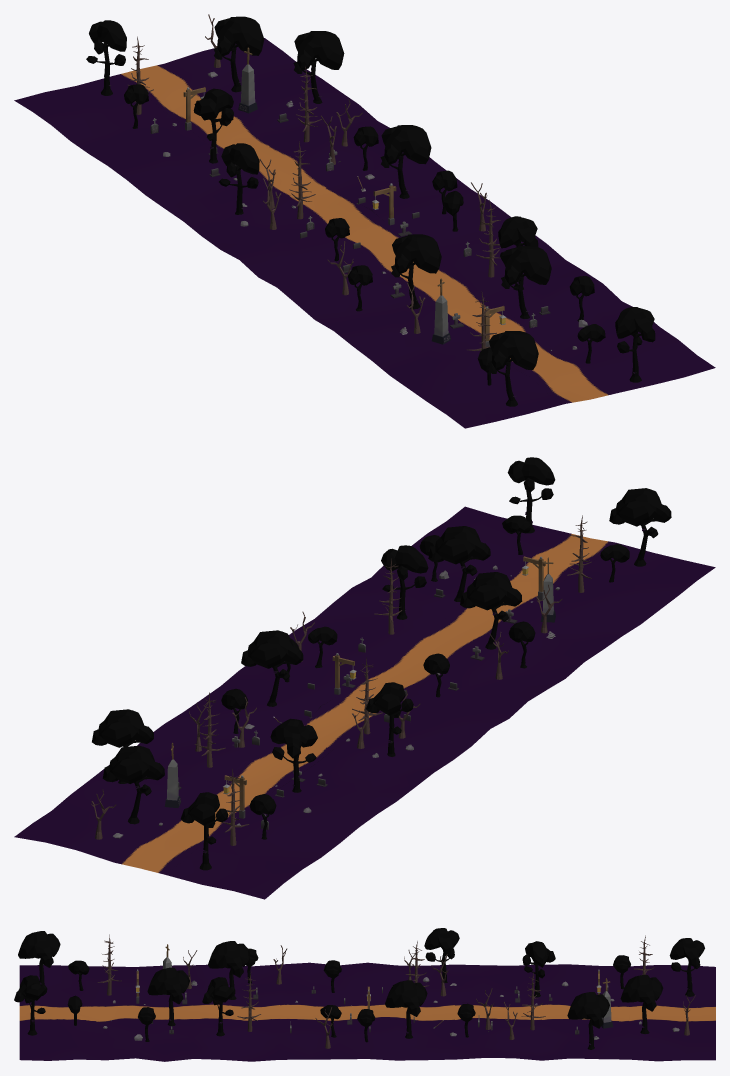
The model's file is cenario4.fbx.
The picture shows the model from 3 angles, top to bottom: view 1: azimuth 30°, elevation 25°; view 2: azimuth 150°, elevation 25°; view 3: azimuth 270°, elevation 25°; orthographic projection. The views are drawn at different scales.
Parts seen in each view (by area): view 1: Plane.001, Arvore.052, Arvore.057, Arvore.058, Arvore.063, Arvore.062, Arvore.048, Arvore.051, Arvore.047, Arvore.046, Arvore.056, Arvore.045 (+2 smaller); view 2: Plane.001, Arvore.052, Arvore.057, Arvore.062, Arvore.058, Arvore.063, Arvore.048, Arvore.056, Arvore.045, Arvore.051, Arvore.047, Arvore.046; view 3: Plane.001, Arvore.057, Arvore.058, Arvore.063, Arvore.048, Arvore.052, Arvore.062, Arvore.047, Arvore.046, Arvore.051, Arvore.056, Arvore.045 (+12 smaller).
Part boxes in pixels (x1,y1,x2,y2): Plane.001: (14, 38, 715, 428); Arvore.052: (488, 331, 538, 406); Arvore.057: (213, 16, 264, 92); Arvore.058: (380, 125, 431, 198); Arvore.063: (501, 245, 551, 318); Arvore.062: (391, 234, 441, 309); Arvore.048: (293, 31, 344, 103); Arvore.051: (615, 307, 655, 382); Arvore.047: (86, 20, 126, 95); Arvore.046: (219, 143, 259, 214); Arvore.056: (193, 88, 233, 163); Arvore.045: (498, 216, 538, 290); Plane.001: (14, 506, 715, 899); Arvore.052: (609, 488, 671, 566); Arvore.057: (102, 745, 164, 824); Arvore.062: (460, 572, 522, 649); Arvore.058: (241, 630, 303, 706); Arvore.063: (428, 526, 490, 601); Arvore.048: (92, 709, 153, 783); Arvore.056: (270, 718, 317, 792); Arvore.045: (381, 545, 428, 619); Arvore.051: (507, 457, 555, 533); Arvore.047: (180, 792, 228, 870); Arvore.046: (366, 682, 413, 756); Plane.001: (19, 962, 715, 1061); Arvore.057: (620, 974, 663, 1034); Arvore.058: (385, 980, 427, 1038); Arvore.063: (147, 967, 189, 1026); Arvore.048: (567, 992, 609, 1049); Arvore.052: (18, 931, 60, 985); Arvore.062: (208, 941, 250, 999); Arvore.047: (669, 938, 704, 996); Arvore.046: (424, 928, 459, 983); Arvore.051: (14, 975, 47, 1035); Arvore.056: (522, 941, 555, 997); Arvore.045: (202, 977, 235, 1036).
Size of the model in its own units: 1927 by 587 by 6050.
